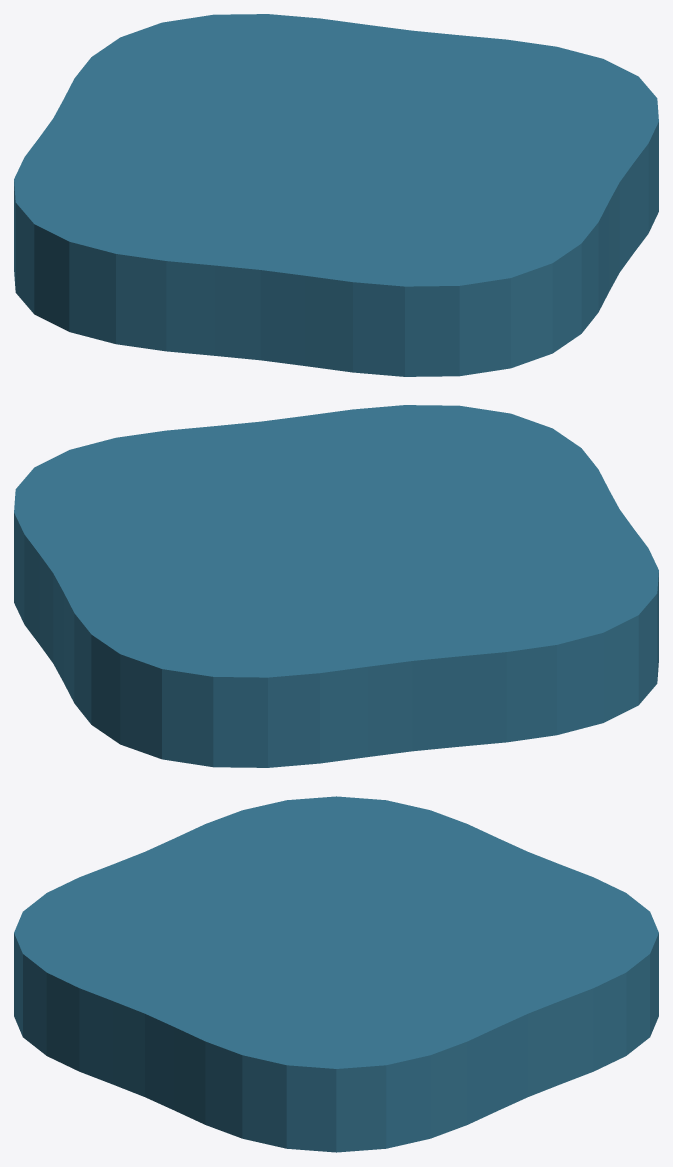
Rendered from SM_Plant_LeakMarker.glb.
The picture shows the model from 3 angles, top to bottom: view 1: azimuth 30°, elevation 25°; view 2: azimuth 150°, elevation 25°; view 3: azimuth 270°, elevation 25°; orthographic projection. The views are drawn at different scales.
Visible parts, largest first — view 1: SM_Plant_LeakMarker; view 2: SM_Plant_LeakMarker; view 3: SM_Plant_LeakMarker.
Part boxes in pixels (x1,y1,x2,y2): SM_Plant_LeakMarker: (14,14,658,376); SM_Plant_LeakMarker: (14,405,658,767); SM_Plant_LeakMarker: (14,796,658,1152).
Bounding box in the file's own units: 0.35 × 0.05 × 0.35.
